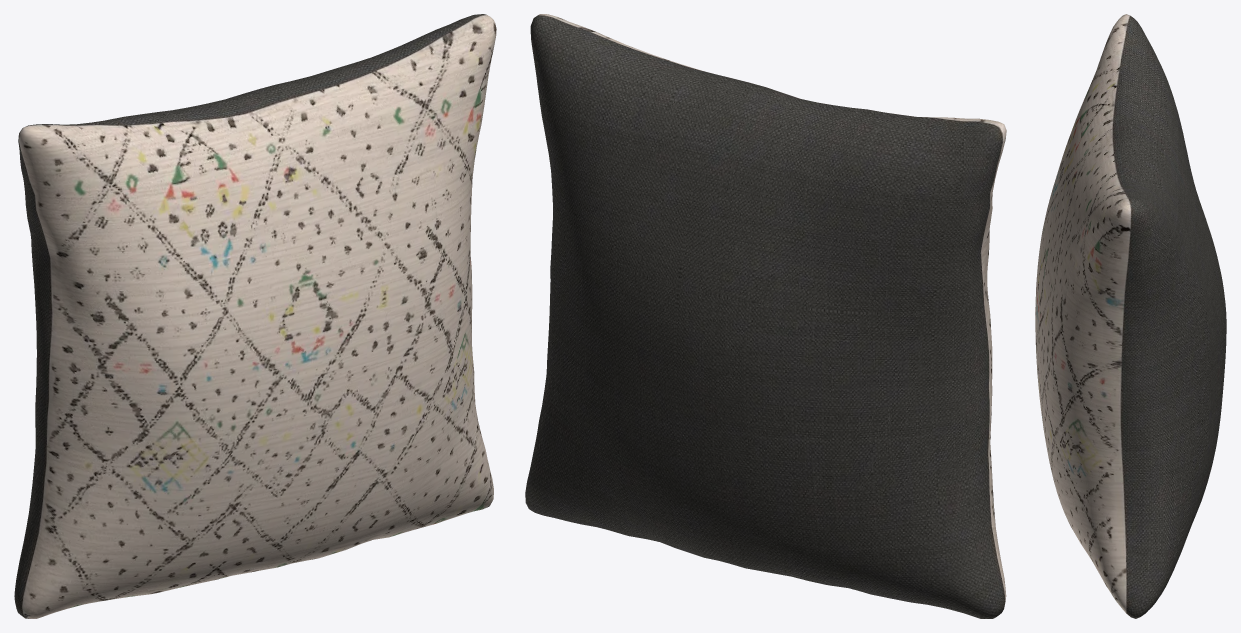
The model's file is B07BMTN6GF.glb.
3 views of the same model, side by side, from view 1: azimuth 30°, elevation 25°; view 2: azimuth 150°, elevation 25°; view 3: azimuth 270°, elevation 25° (orthographic). The views are drawn at different scales.
Parts seen in each view (by area): view 1: RootNode; view 2: RootNode; view 3: RootNode.
Boxes of the visible parts, x1,y1,x2,y2 form: RootNode: [14, 14, 496, 618]; RootNode: [525, 14, 1006, 618]; RootNode: [1035, 14, 1226, 618].
Bounding box in the file's own units: 0.5024 × 0.5026 × 0.2098.
Materials: 1 (1 with a texture image).
